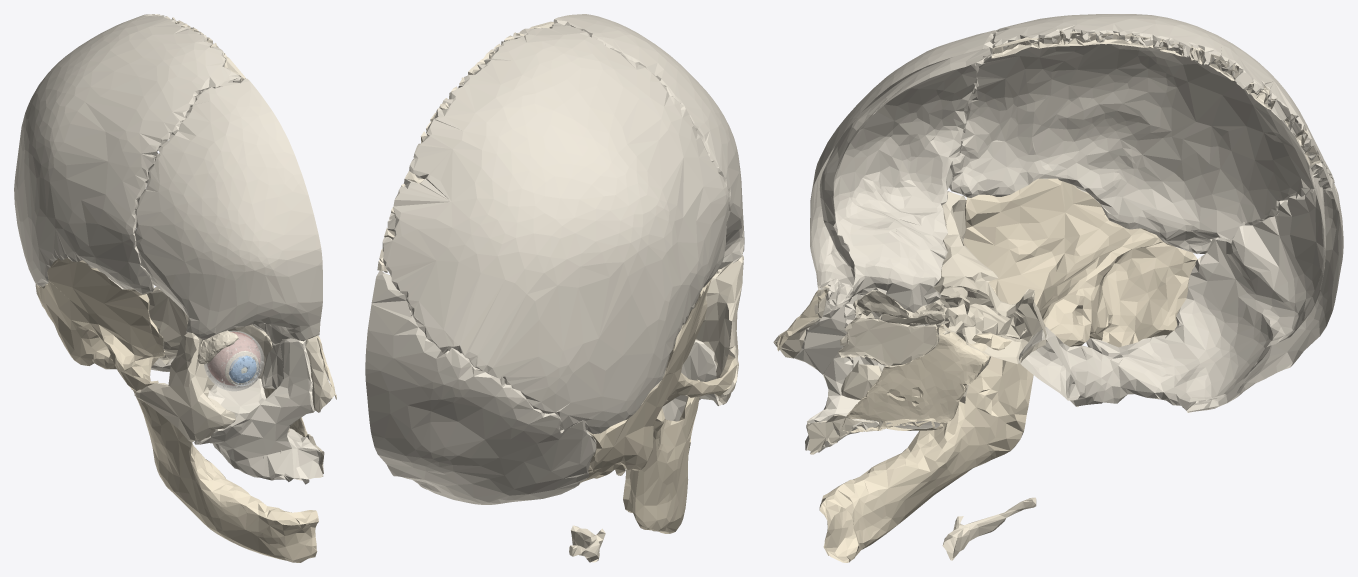
The model's file is cranio_interno.glb.
3 views of the same model, side by side, from view 1: azimuth 30°, elevation 25°; view 2: azimuth 150°, elevation 25°; view 3: azimuth 270°, elevation 25° (orthographic). The views are drawn at different scales.
Parts seen in each view (by area): view 1: frontal bone, right parietal bone, mandible, right temporal bone, right maxilla, right cheek, sphenoid bone, right sclera, right nasal bone, right choroid, right lacrimal bone, right lacrimal gland (+3 smaller); view 2: right parietal bone, occipital bone, frontal bone, right temporal bone, mandible, right cheek, right maxilla, left parietal bone, hyoid bone; view 3: right parietal bone, occipital bone, frontal bone, right temporal bone, mandible, sphenoid bone, bony part of nasal septum, basicranium, right maxilla, left parietal bone, hyoid bone, left maxilla (+4 smaller).
Boxes of the visible parts, box(x1,y1,x2,y2) form: frontal bone: box(134, 78, 322, 345); right parietal bone: box(14, 14, 240, 294); mandible: box(124, 357, 318, 562); right temporal bone: box(35, 258, 164, 398); right maxilla: box(194, 338, 323, 484); right cheek: box(134, 332, 235, 442); sphenoid bone: box(147, 287, 240, 390); right sclera: box(204, 330, 264, 391); right nasal bone: box(305, 336, 334, 412); right choroid: box(208, 332, 260, 385); right lacrimal bone: box(261, 343, 283, 389); right lacrimal gland: box(197, 330, 238, 364); right parietal bone: box(382, 23, 729, 434); occipital bone: box(365, 271, 596, 504); frontal bone: box(553, 14, 744, 269); right temporal bone: box(580, 278, 737, 482); mandible: box(623, 379, 699, 533); right cheek: box(695, 255, 743, 404); right maxilla: box(662, 339, 722, 421); left parietal bone: box(377, 21, 554, 272); hyoid bone: box(569, 525, 605, 562); right parietal bone: box(949, 14, 1334, 253); occipital bone: box(1019, 162, 1343, 412); frontal bone: box(810, 30, 998, 312); right temporal bone: box(963, 178, 1197, 347); mandible: box(819, 356, 1033, 562); sphenoid bone: box(933, 191, 1046, 403); bony part of nasal septum: box(842, 324, 990, 432); basicranium: box(838, 290, 959, 367); right maxilla: box(794, 279, 929, 452); left parietal bone: box(991, 31, 1320, 166); hyoid bone: box(942, 497, 1036, 560); left maxilla: box(806, 414, 883, 454).
Bounding box in the file's own units: 75.52 × 214 × 209.
